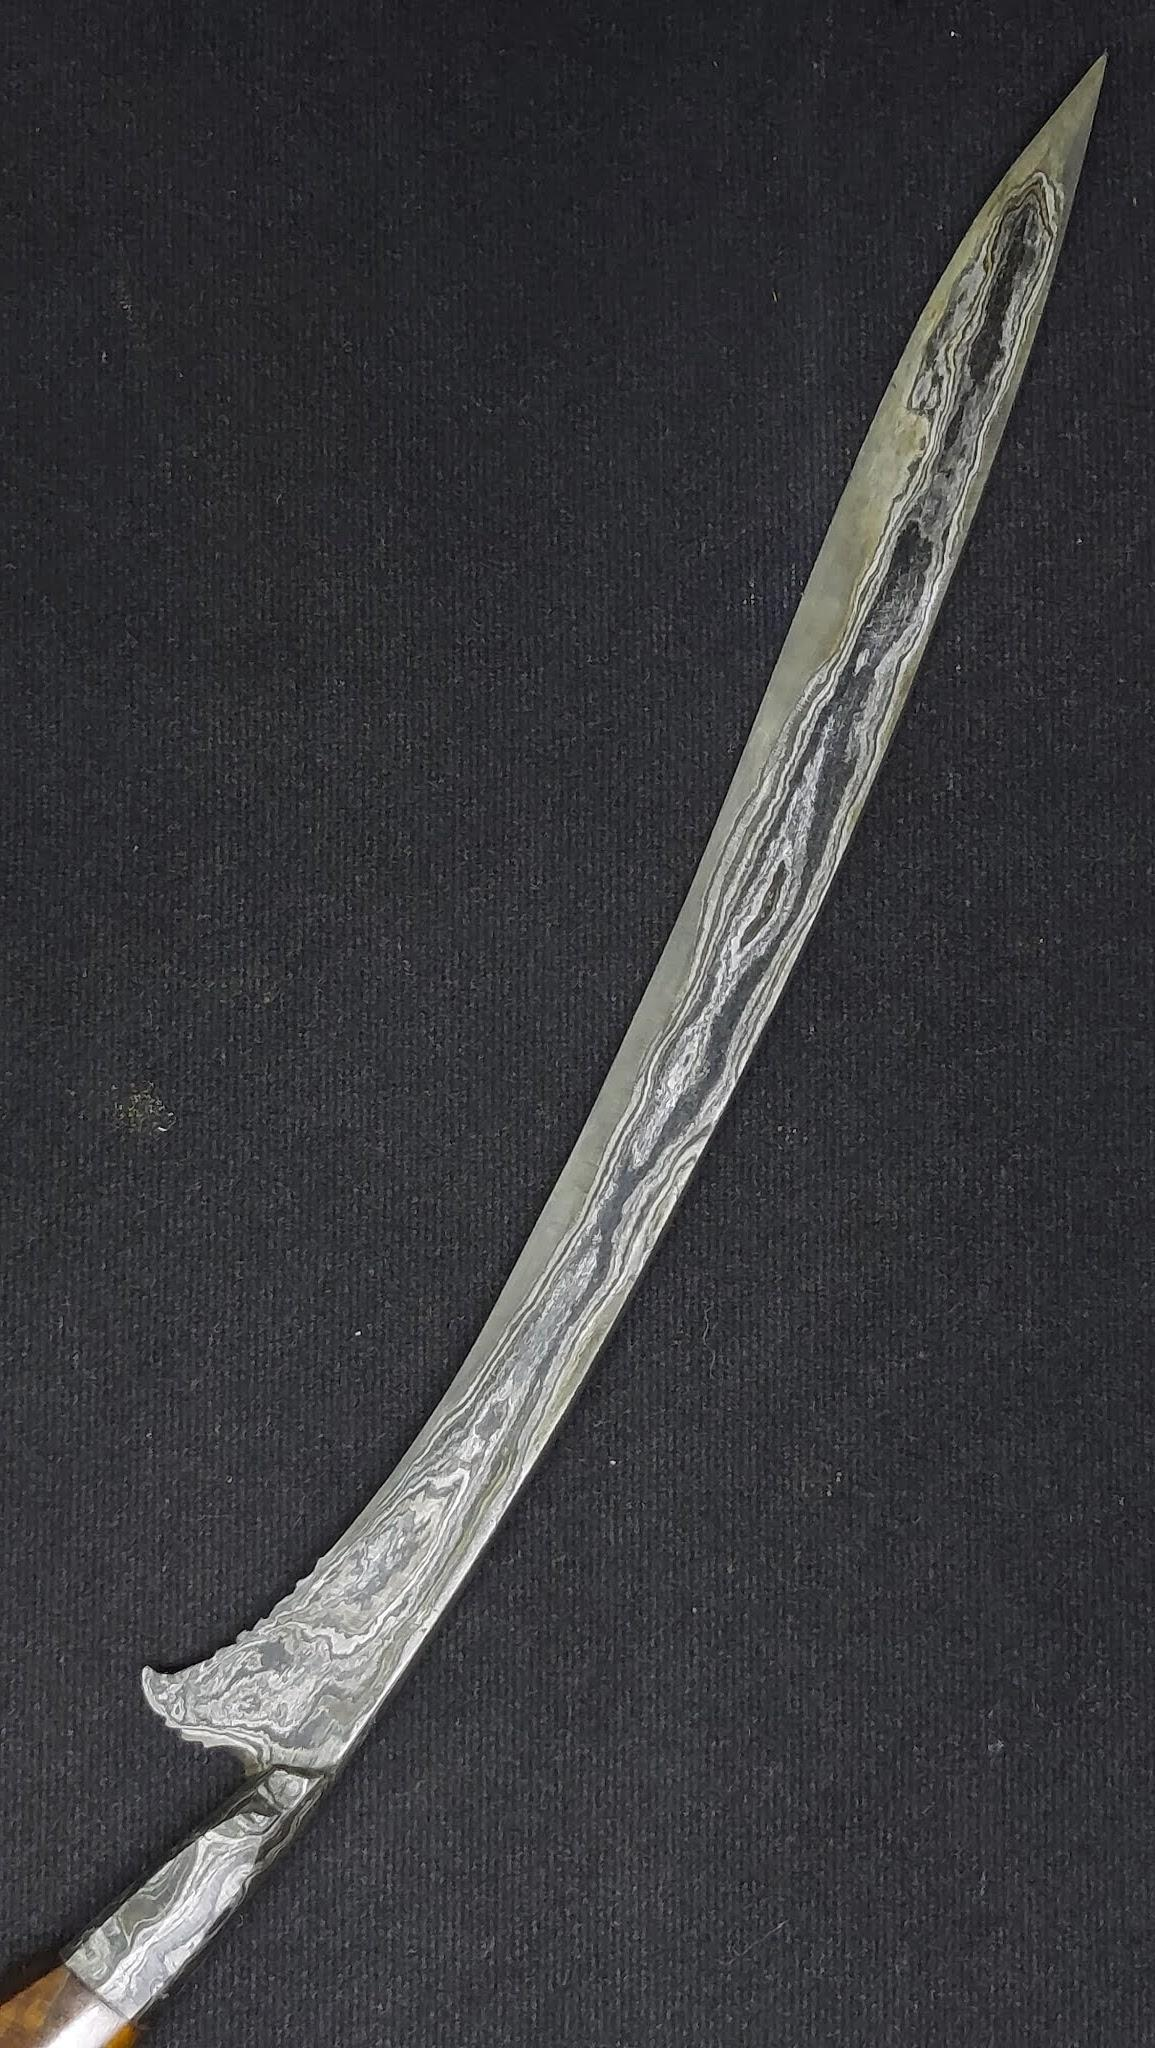facao: (65, 56, 1104, 2024)
